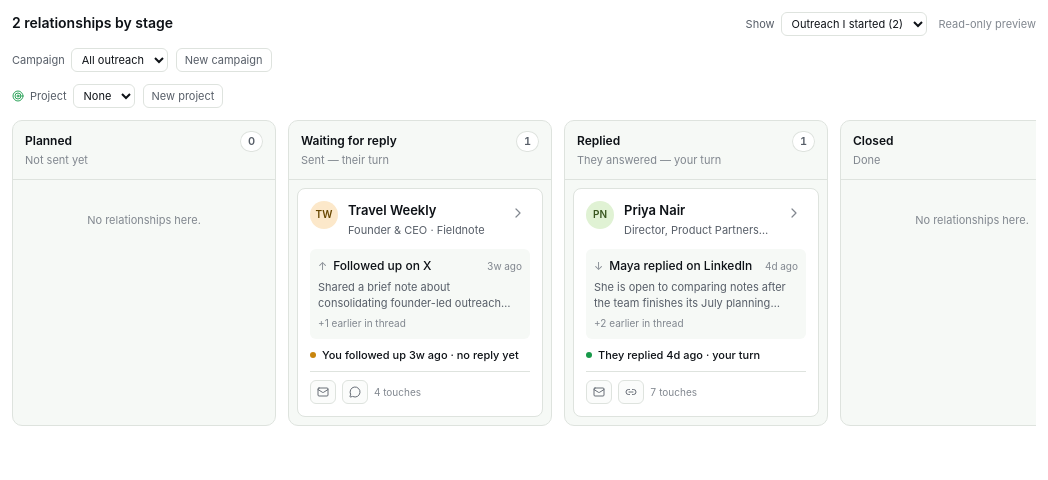
Scenario: PeopleBoard projects UI › classifies people and filters the board to matches with reasons
The width and height of the screenshot is (1048, 480).
Check: the link "Priya Nair" is shown, box [624,202,685,218]
Check: the link "Travel Weekly" is shown, box [348,202,436,218]
Select "Libra" in the dropdown labelled "Project" at (104, 96), box [72,84,134,108]
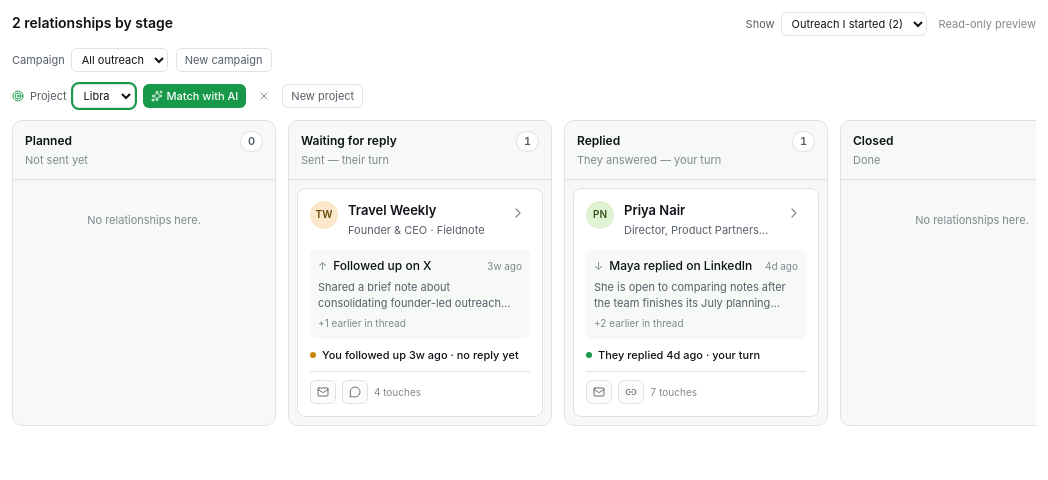
Click the button "Match with AI" at (194, 96), box [142,84,246,108]
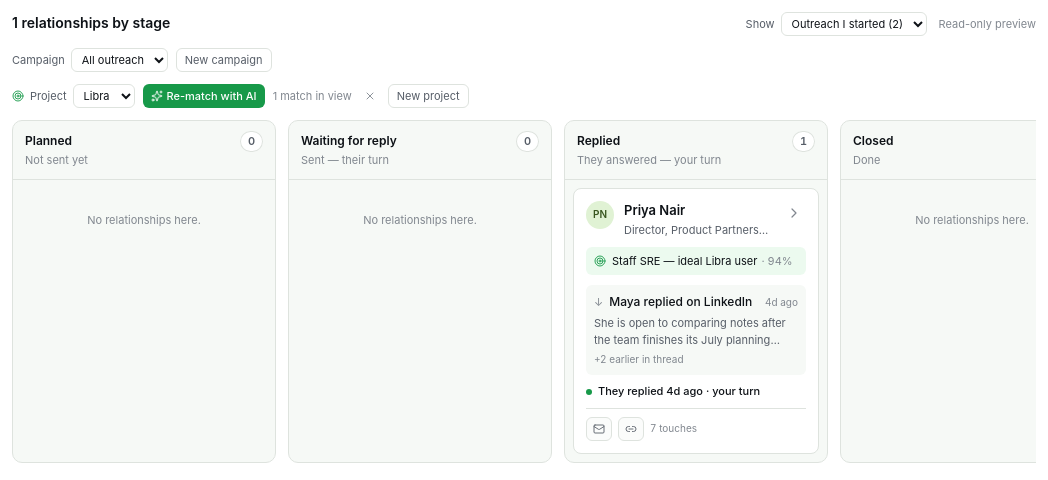
Check: the link "Priya Nair" is shown, box [624,202,685,218]
Check: the text "Staff SRE — ideal Libra user" is shown, box [612,254,757,268]
Check: the link "Travel Weekly" is gone
